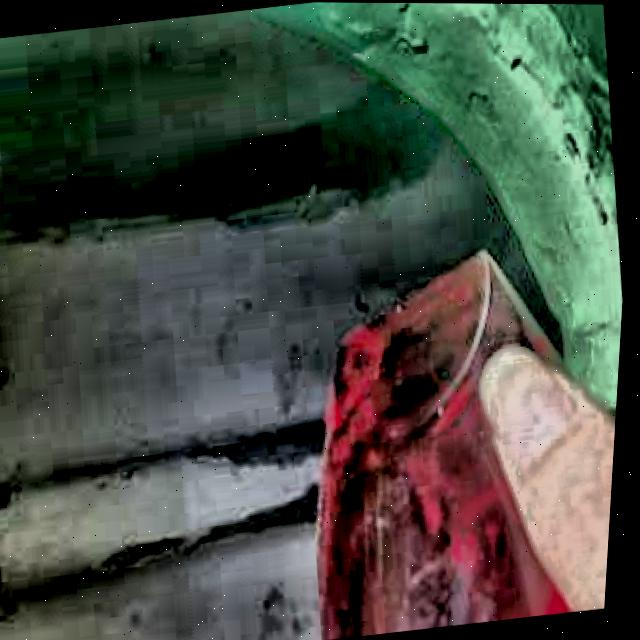glass: (326, 251, 577, 639)
